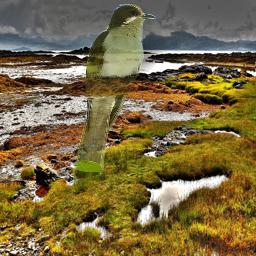Cuckoo: (72, 4, 156, 192)
